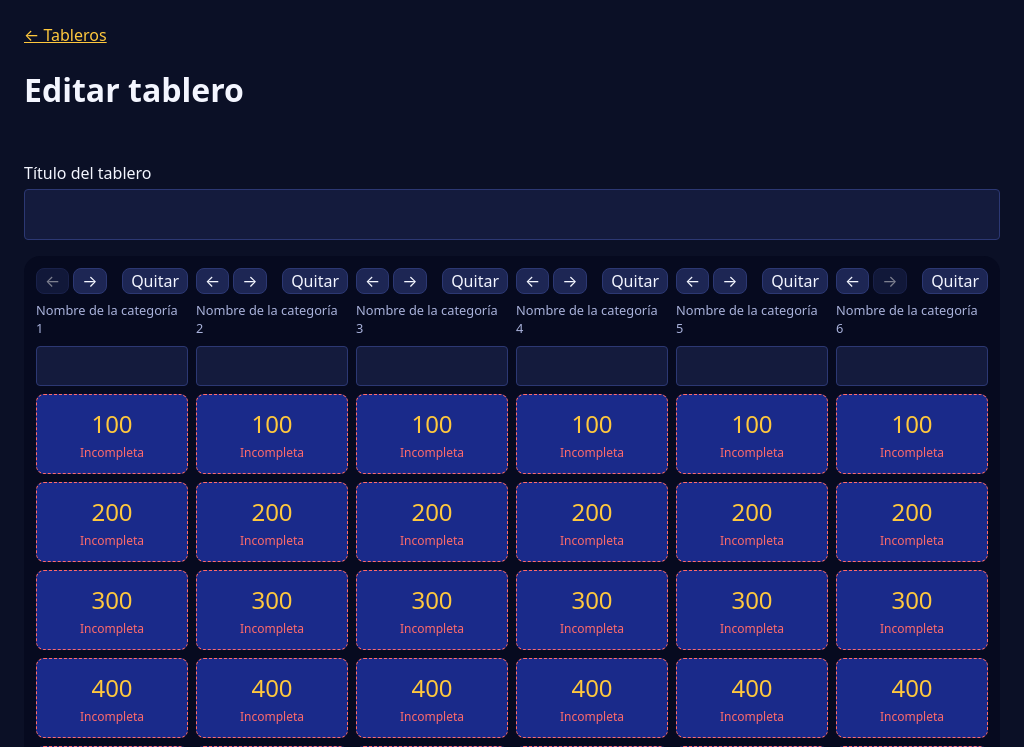
Scenario: EditorScreen › completa una celda, la cierra y al reabrirla conserva el texto
Expected: the field labelled "Título del tablero" is shown, [24,189,1000,240]
Click the button with aria-label "Categoría 2, 300, incompleta".
click(272, 610)  # box [196,570,348,650]
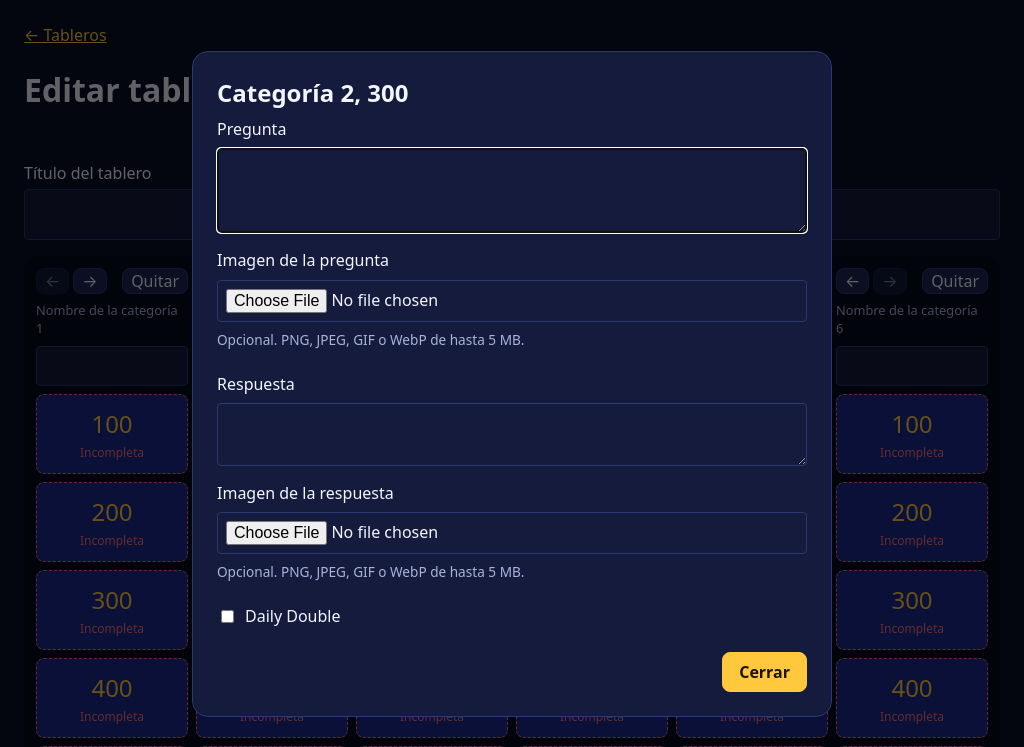
Type "¿Capital de Francia?" into the text box labelled "Pregunta".
click(512, 191); type("¿Capital de Francia?")  # box [217,148,807,233]
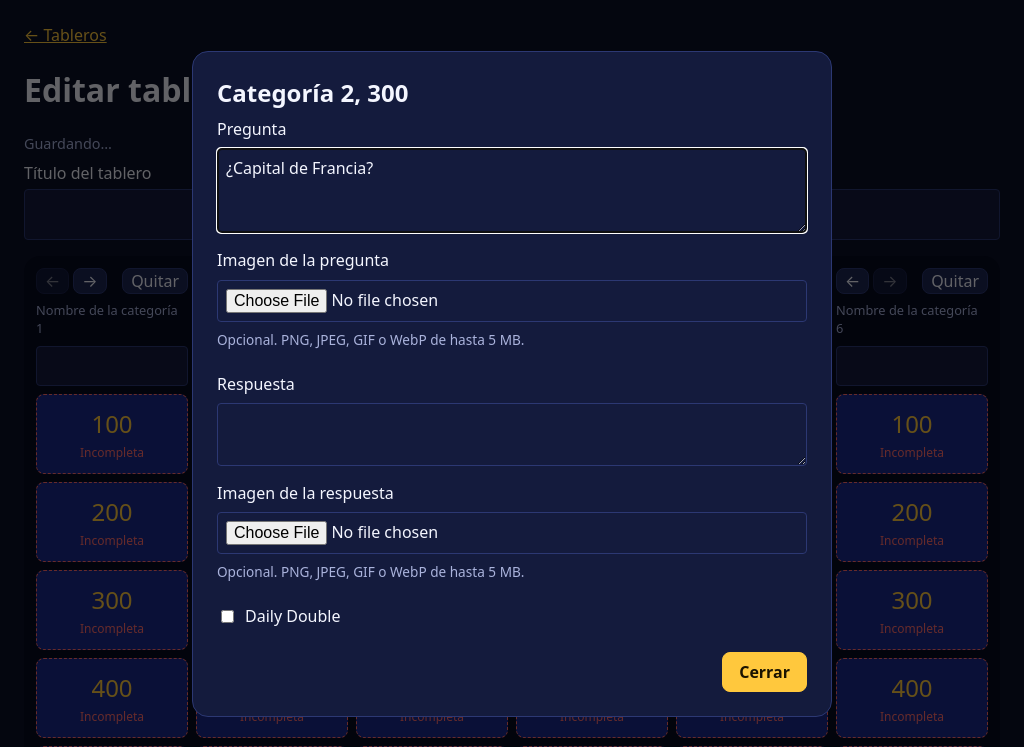
Type "París" into the text box labelled "Respuesta".
click(512, 434); type("París")  # box [217,403,807,466]
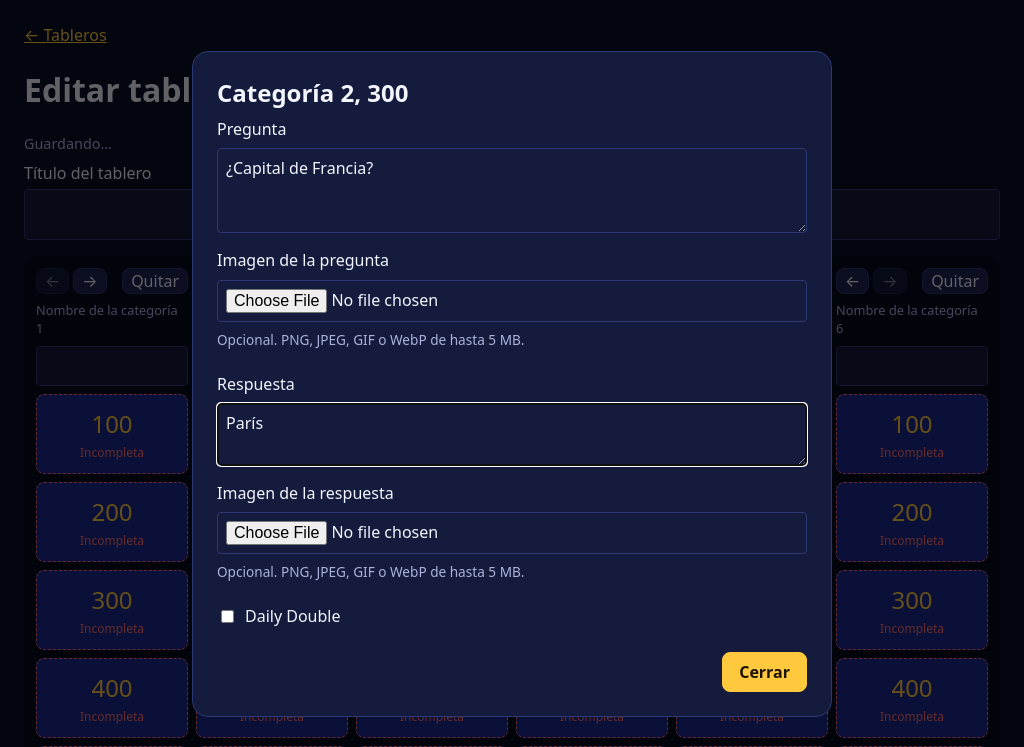
Click the button "Cerrar".
click(765, 672)  # box [722,652,807,692]
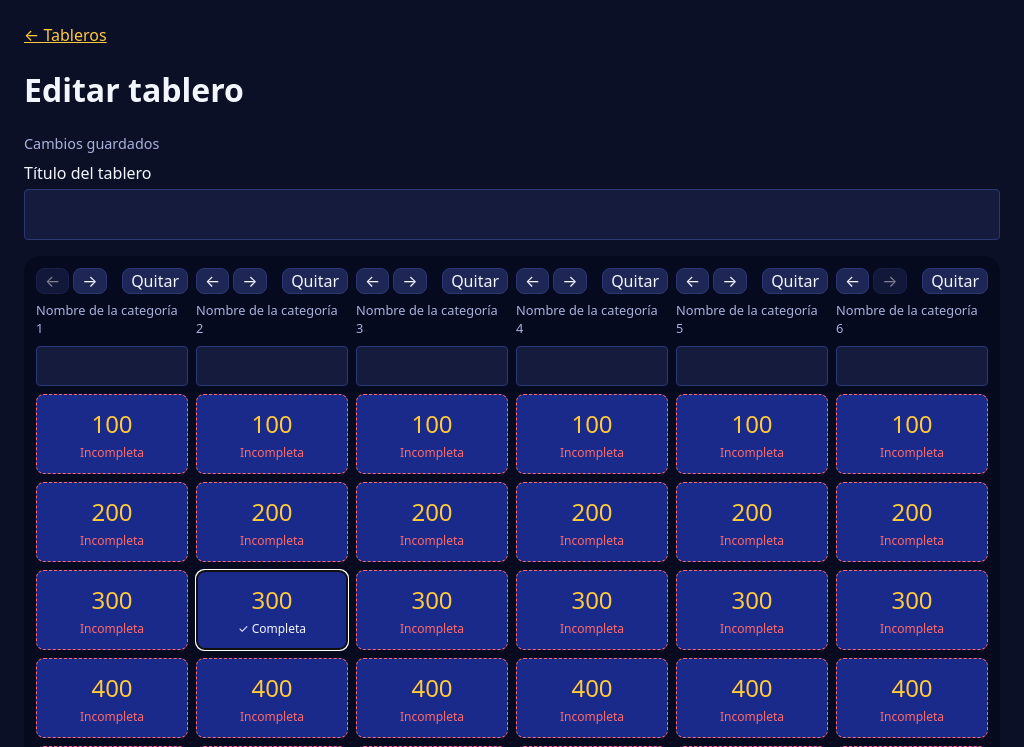
Now the dialog is gone
Click the button with aria-label "Categoría 2, 300, completa".
click(272, 610)  # box [196,570,348,650]
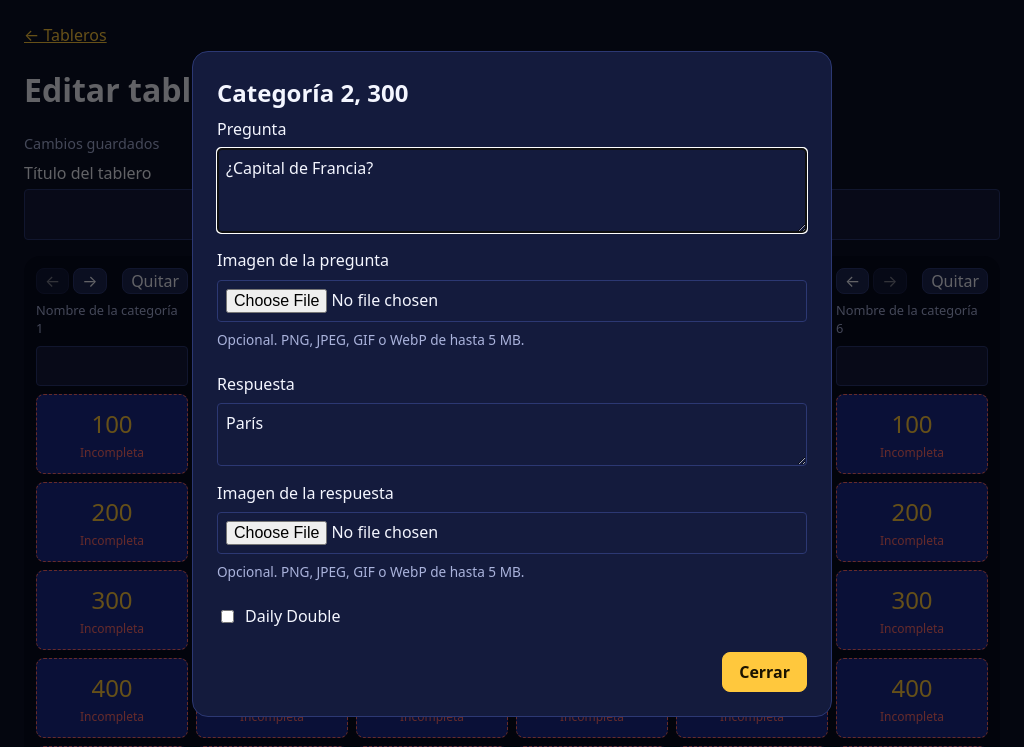
Now the text box labelled "Pregunta" holds "¿Capital de Francia?", box [217,148,807,233]
Now the text box labelled "Respuesta" holds "París", box [217,403,807,466]
